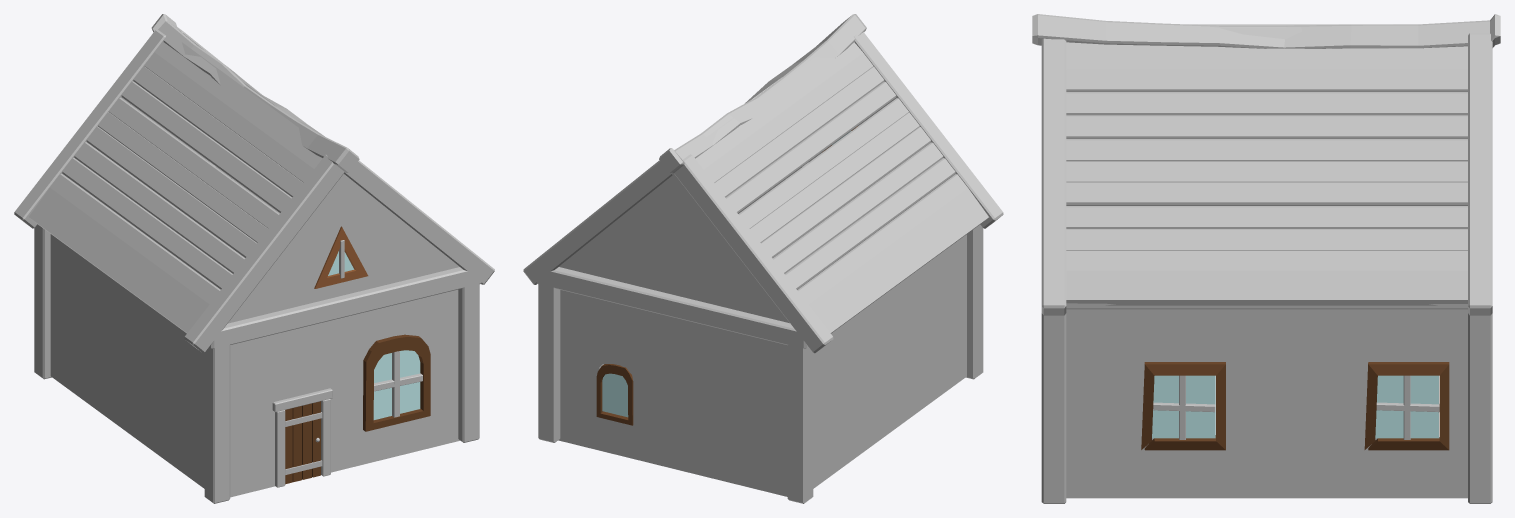
File: plainhouse.fbx
The picture shows the model from 3 angles, left to right: view 1: azimuth 30°, elevation 25°; view 2: azimuth 150°, elevation 25°; view 3: azimuth 270°, elevation 25°; orthographic projection. The views are drawn at different scales.
Visible parts, largest first — view 1: Cube.033, Cube.035, Cube.018, Cube.005, Cube.004; view 2: Cube.033, Cube.035, Cube.034, Cube.005; view 3: Cube.033, Cube.035, Cube.018, Cube.005.
Part boxes in pixels (bbox=[...]): Cube.033: bbox=[14, 14, 494, 503]; Cube.035: bbox=[50, 104, 459, 497]; Cube.018: bbox=[285, 334, 430, 484]; Cube.005: bbox=[328, 251, 420, 419]; Cube.004: bbox=[314, 226, 368, 288]; Cube.033: bbox=[523, 14, 1003, 503]; Cube.035: bbox=[558, 105, 966, 496]; Cube.034: bbox=[596, 364, 633, 425]; Cube.005: bbox=[602, 131, 850, 417]; Cube.033: bbox=[1032, 14, 1500, 503]; Cube.035: bbox=[1066, 309, 1467, 498]; Cube.018: bbox=[1141, 362, 1449, 450]; Cube.005: bbox=[1152, 375, 1438, 438].
Size of what is drawn, in the model's own units: 376 by 388 by 402.
